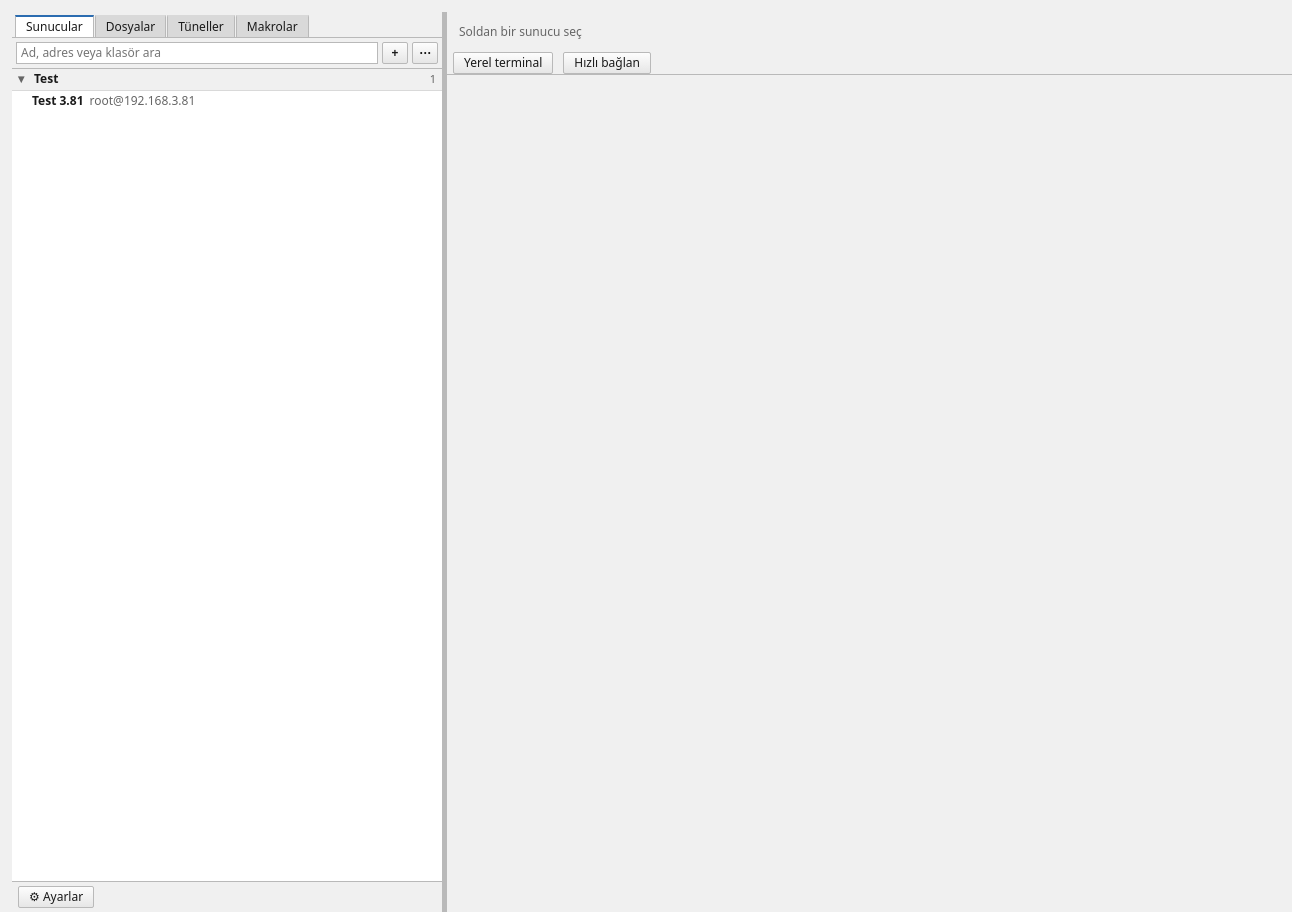
choosing English switches the visible labels and remembers it
The width and height of the screenshot is (1292, 912).
Check: the text "Test 3.81" is shown, box top-left (32, 93), bottom-right (84, 109)
Step 1. Click the button "⚙ Ayarlar" → point(56, 897), box top-left (18, 886), bottom-right (94, 908)
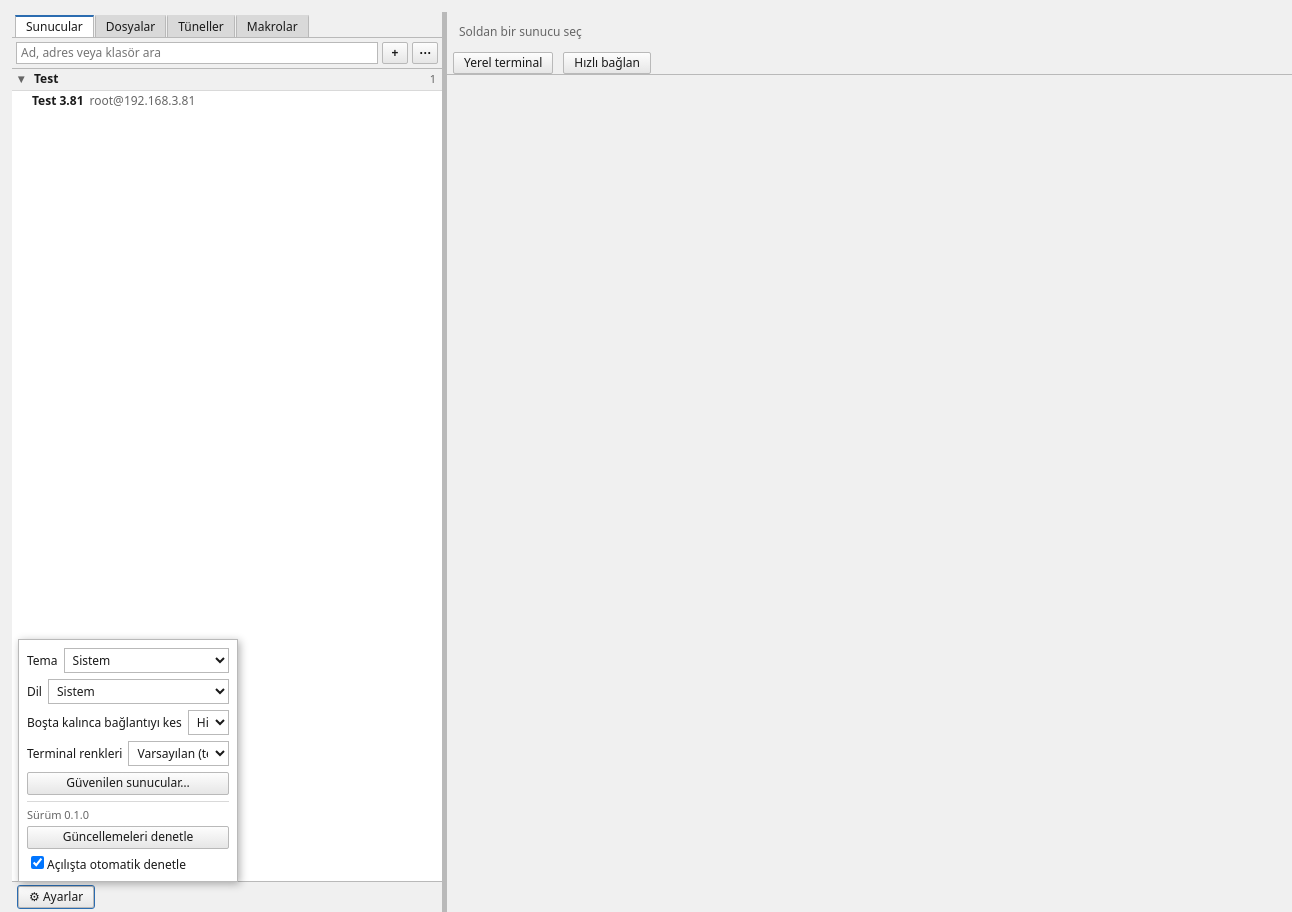
Step 2. Select "English" in the dropdown labelled "Dil" → point(138, 692), box top-left (48, 679), bottom-right (229, 704)
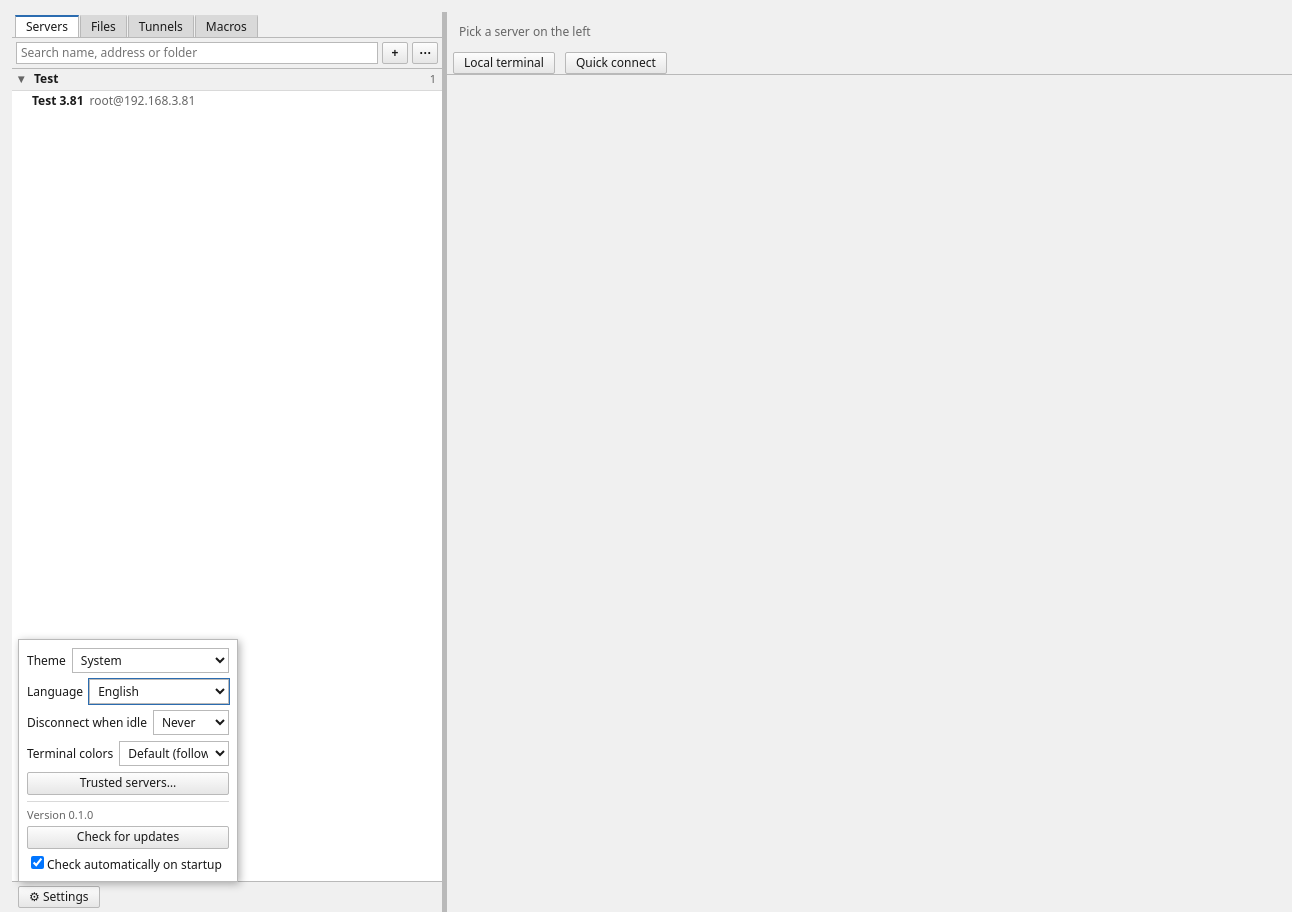
Check: the button named "Add server" is shown, box top-left (382, 42), bottom-right (408, 64)
Check: the dropdown labelled "Theme" is shown, box top-left (72, 648), bottom-right (229, 673)
Check: the navigation bar named "Servers" is shown, box top-left (12, 38), bottom-right (442, 111)
Step 3. Select "Türkçe" in the dropdown labelled "Language" → point(159, 692), box top-left (89, 679), bottom-right (229, 704)
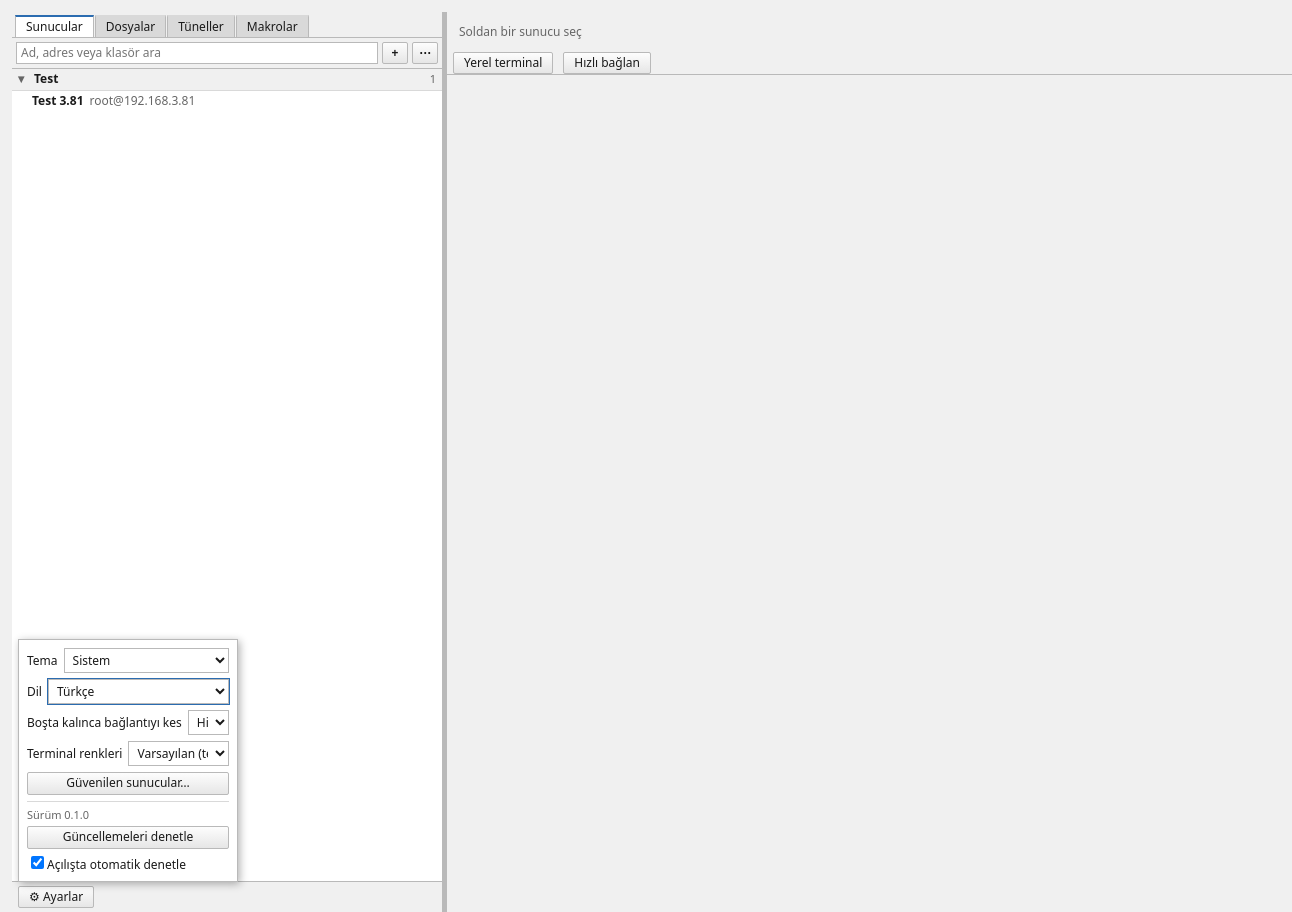
Check: the navigation bar named "Sunucular" is shown, box top-left (12, 38), bottom-right (442, 111)
